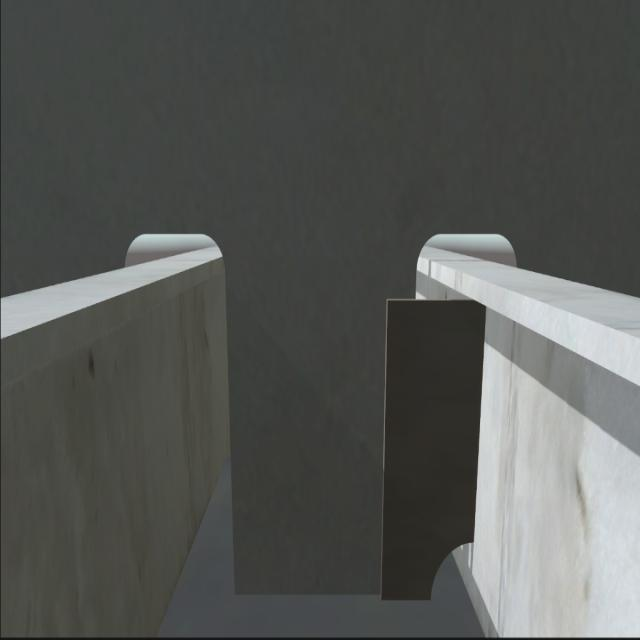fillet_hole: (432, 540, 477, 598)
fillet_yong_jeop_jang: (231, 578, 440, 612)
longi_yong_jeop_jang: (468, 293, 492, 547)
plate_CP01: (380, 295, 480, 593)
